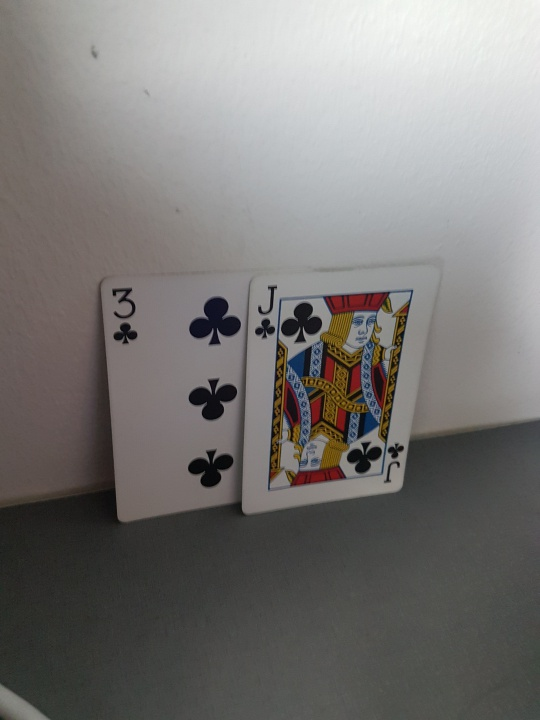3: (97, 273, 245, 526)
jack: (246, 272, 427, 514)
